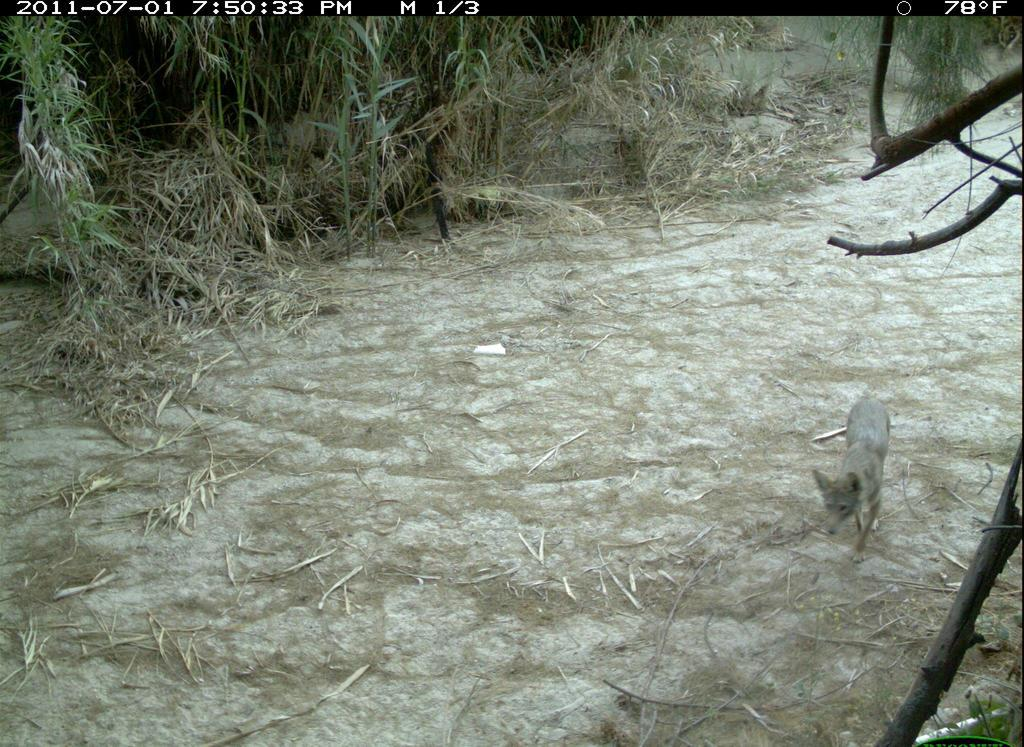coyote: (806, 395, 904, 578)
